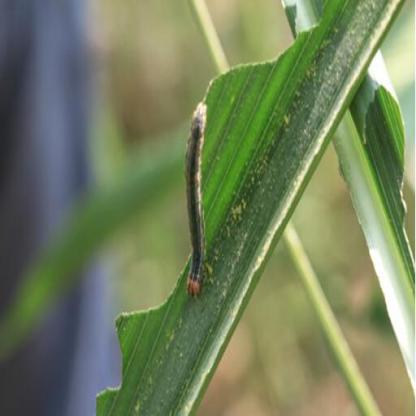armyworm: (181, 95, 213, 309)
